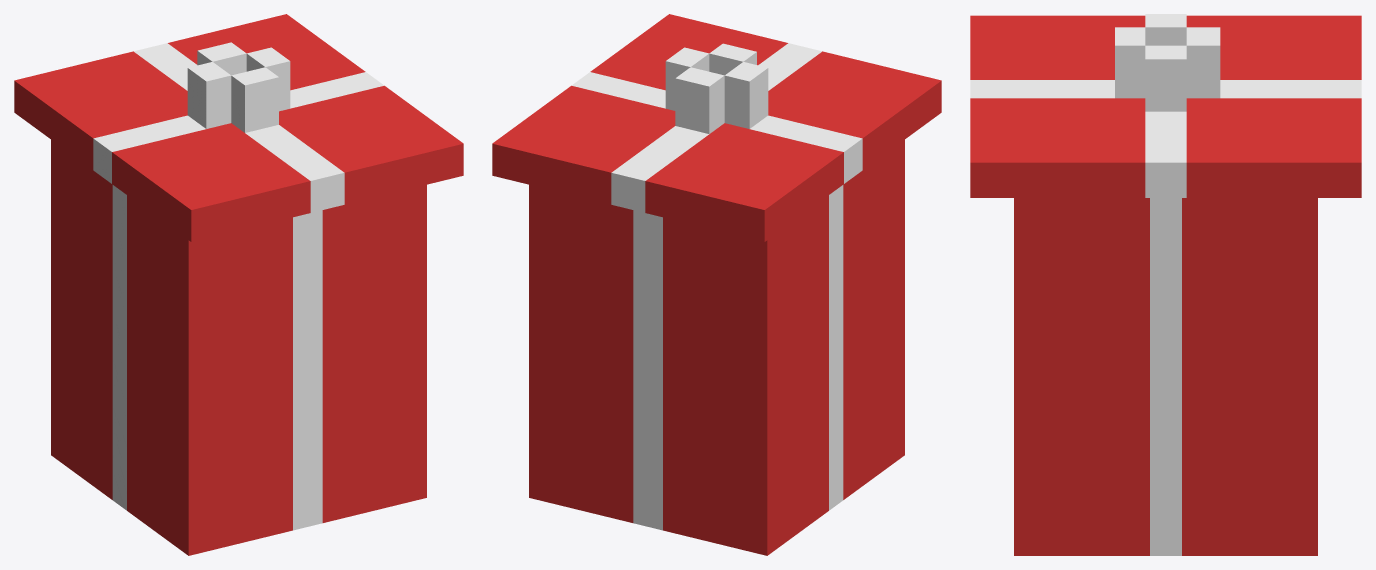
Rendered from ROJO.fbx.
3 renders of one model, left to right at view 1: azimuth 30°, elevation 25°; view 2: azimuth 150°, elevation 25°; view 3: azimuth 270°, elevation 25°, orthographic. The views are drawn at different scales.
Parts seen in each view (by area): view 1: Cube; view 2: Cube; view 3: Cube.
Boxes of the visible parts, x1=… form: Cube: x1=14, y1=14, x2=463, y2=555; Cube: x1=492, y1=14, x2=941, y2=555; Cube: x1=970, y1=14, x2=1361, y2=555.
Bounding box in the file's own units: 229 × 331 × 258.
